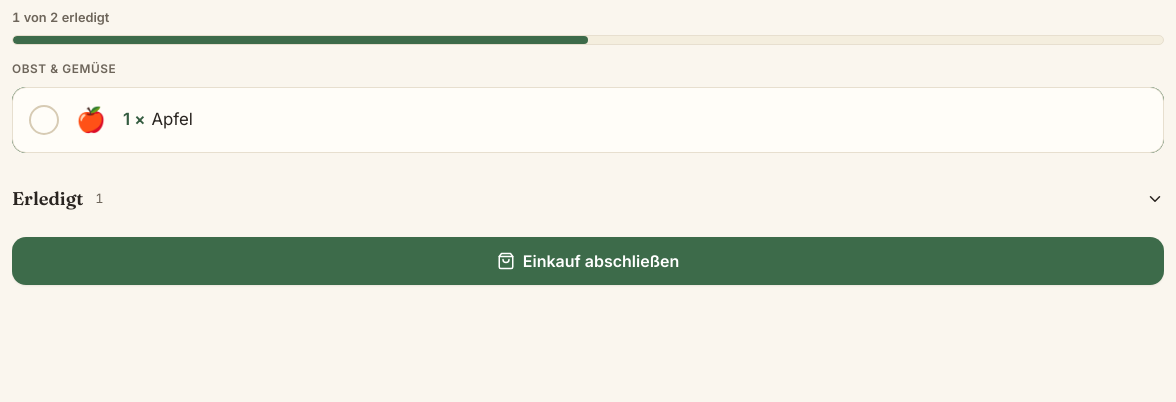
Test: ShoppingList – Kategorie-Gruppierung › hält offene und erledigte Artikel in getrennten Abschnitten, je eigenständig gruppiert
Expected: the element named "Offene Artikel" is shown, x1=12 y1=8 x2=1164 y2=153
Expected: the element named "Erledigte Artikel" is shown, x1=12 y1=177 x2=1164 y2=285
Nach dem Aufklappen erscheint die zweite (erledigte) Gruppe.
Step 1. Click the button "Erledigt 1" → (48, 198), box x1=12 y1=177 x2=1164 y2=221
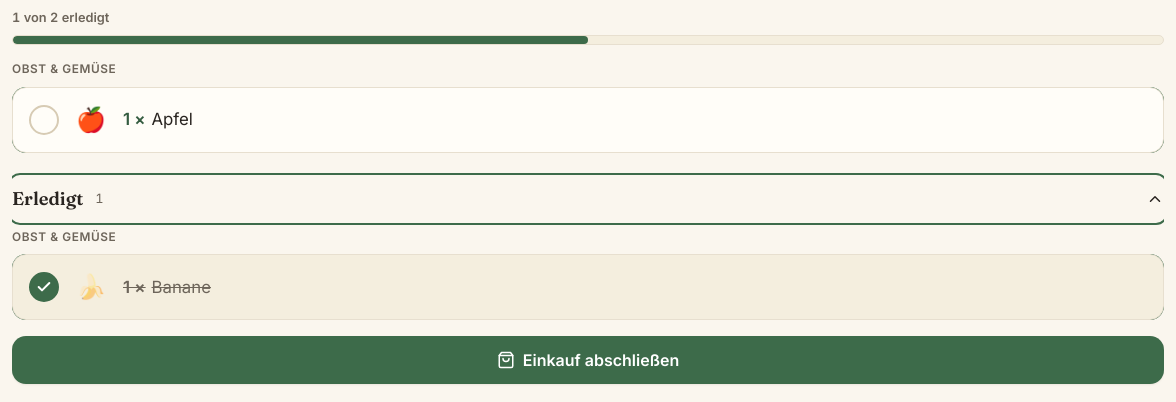
Result: the number of headings "Obst & Gemüse" is 2 at x1=12 y1=62 x2=116 y2=76; x1=12 y1=230 x2=116 y2=244
